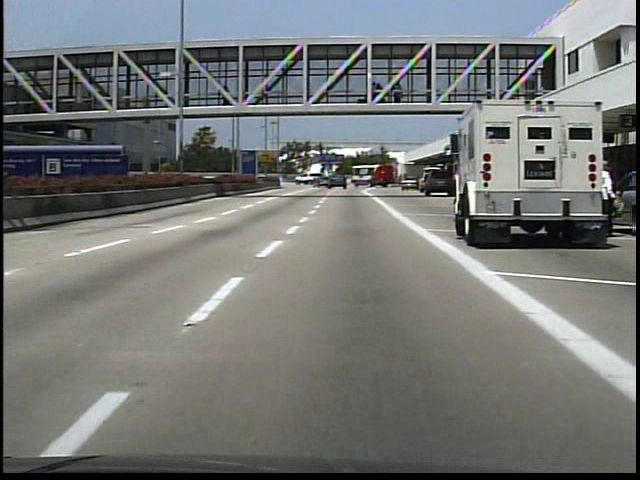person: (597, 154, 616, 242)
